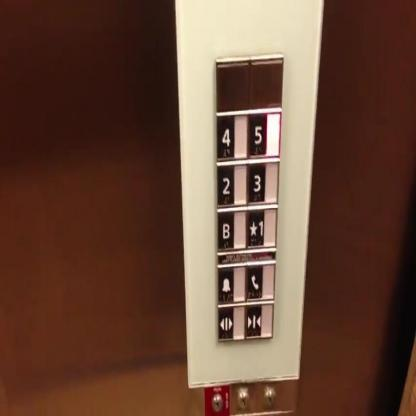2: (212, 158, 248, 209)
3: (245, 158, 281, 207)
4: (213, 107, 250, 164)
5: (244, 104, 283, 161)
B: (213, 208, 248, 253)
alarm: (215, 260, 246, 305)
call: (244, 258, 276, 304)
close: (243, 298, 274, 342)
keyhole: (204, 384, 231, 413), (261, 382, 277, 412), (235, 385, 251, 413)
open: (213, 299, 247, 345)
s1: (244, 204, 278, 250)
